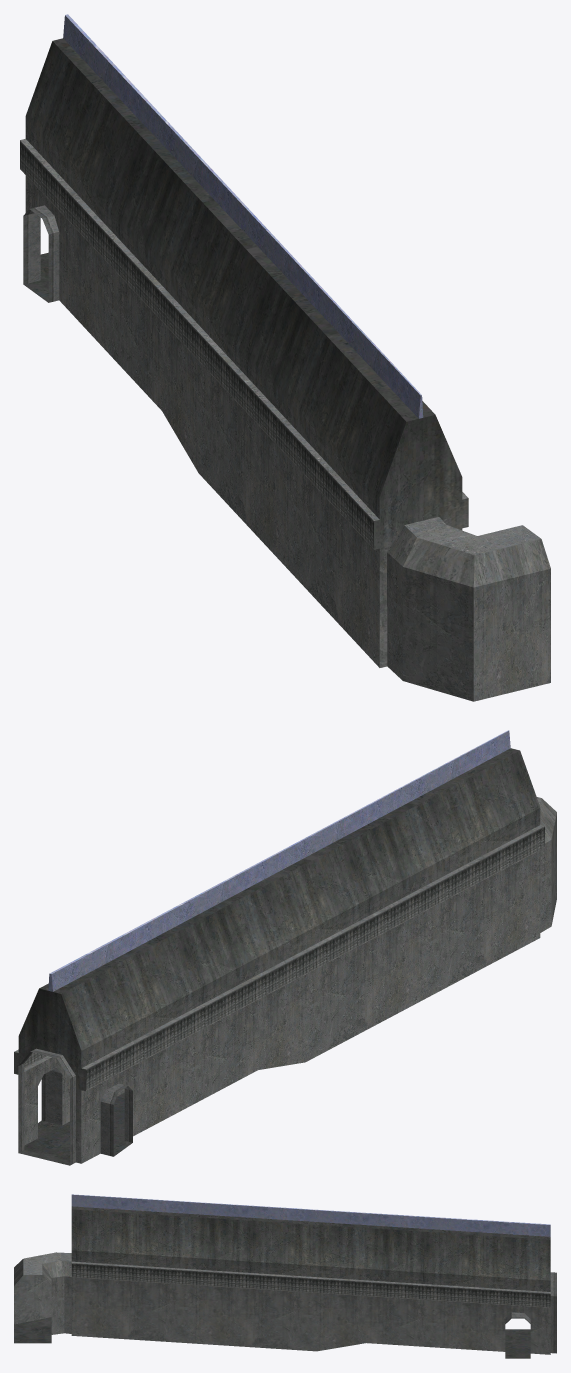
Rendered from thm_yavn_jedi_enclave_dark_r18_hallwayb1_mesh.fbx.
3 views of the same model, one above another, from view 1: azimuth 30°, elevation 25°; view 2: azimuth 150°, elevation 25°; view 3: azimuth 270°, elevation 25° (orthographic). The views are drawn at different scales.
Parts seen in each view (by area): view 1: mesh_node; view 2: mesh_node; view 3: mesh_node.
Part boxes in pixels (x1,y1,x2,y2): mesh_node: (20, 14, 550, 701); mesh_node: (14, 730, 556, 1165); mesh_node: (14, 1194, 556, 1358).
Size of the model in its own units: 10.46 by 11.5 by 43.09.
